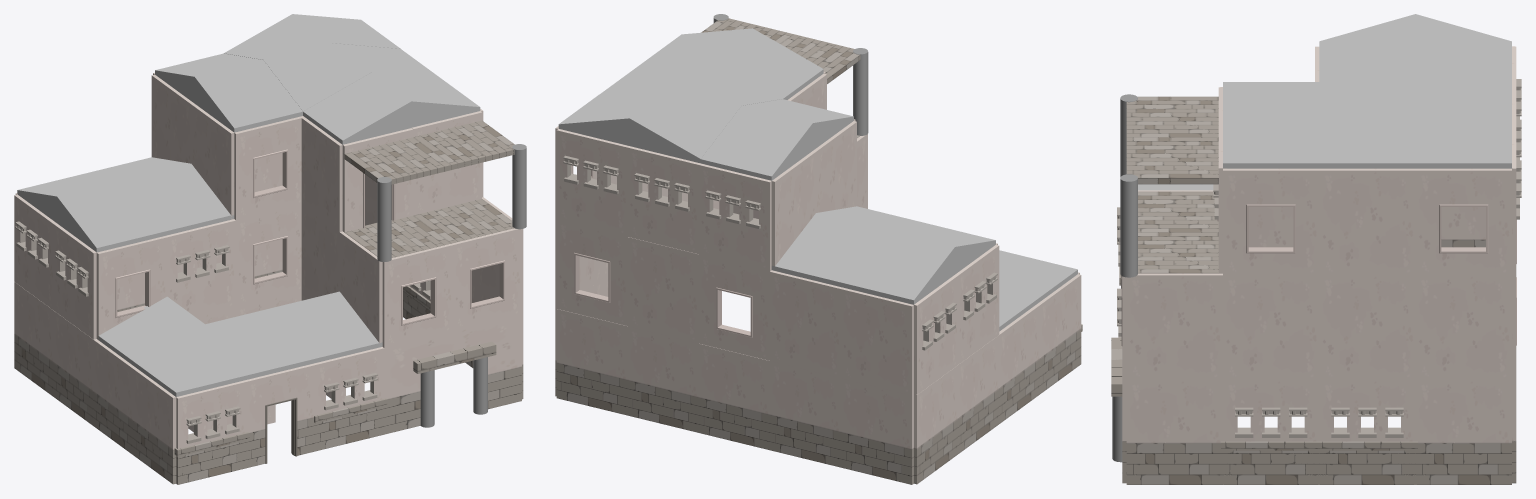
Rendered from SM_Bld_Temp_Building_02.fbx.
The picture shows the model from 3 angles, left to right: view 1: azimuth 30°, elevation 25°; view 2: azimuth 150°, elevation 25°; view 3: azimuth 270°, elevation 25°; orthographic projection. The views are drawn at different scales.
Parts seen in each view (by area): view 1: SM_Bld_Temp_Building_02; view 2: SM_Bld_Temp_Building_02; view 3: SM_Bld_Temp_Building_02.
Boxes of the visible parts, <box> form: SM_Bld_Temp_Building_02: <box>14,14,526,484</box>; SM_Bld_Temp_Building_02: <box>555,14,1082,484</box>; SM_Bld_Temp_Building_02: <box>1111,14,1521,484</box>.
Size of the model in its own units: 1300 by 994 by 1064.
